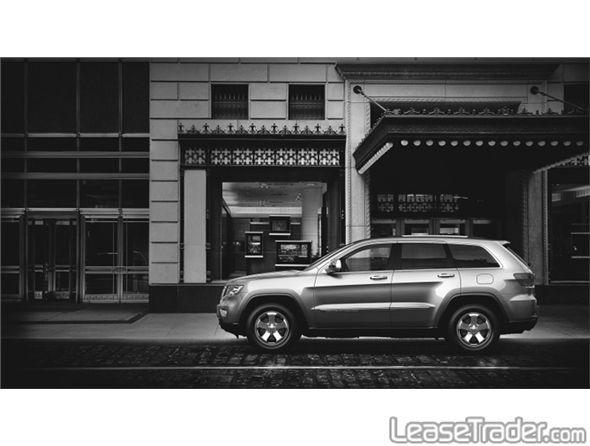car: (217, 236, 542, 358)
